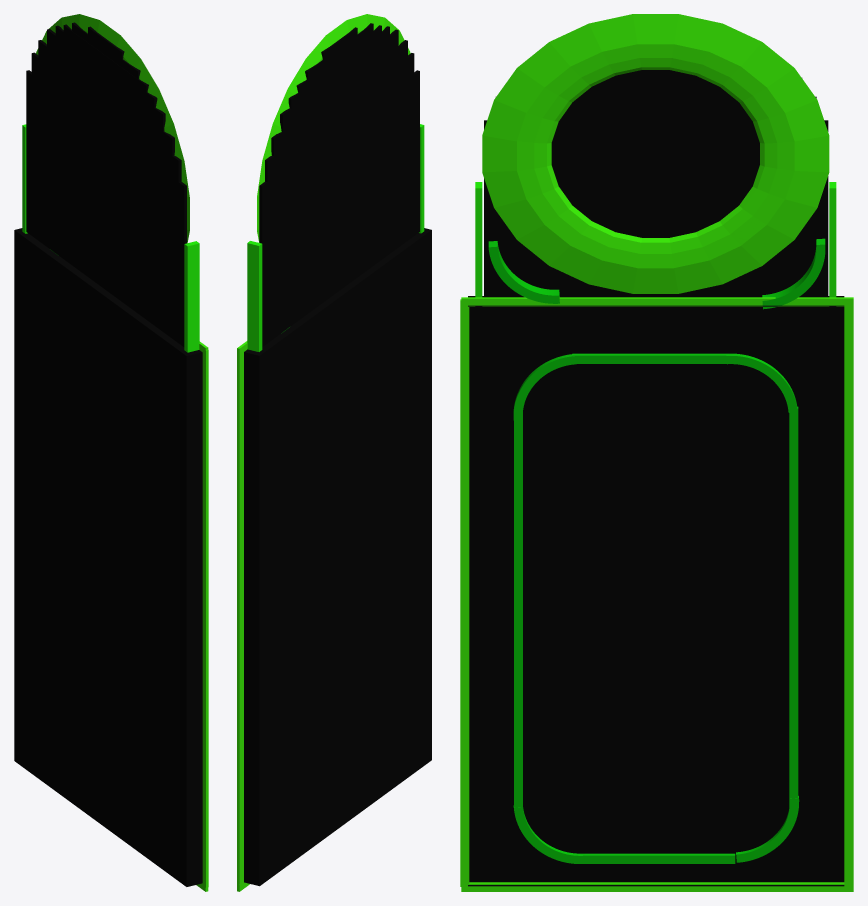
File: Park Station Sign.fbx
The picture shows the model from 3 angles, left to right: view 1: azimuth 30°, elevation 25°; view 2: azimuth 150°, elevation 25°; view 3: azimuth 270°, elevation 25°; orthographic projection. The views are drawn at different scales.
Parts seen in each view (by area): view 1: Board (×2), Frame; view 2: Board (×2), Frame; view 3: Frame (×2), Board (×3), Curve.004, Curve.005, Curve.006, Curve.002, Curve, Curve.003.
Boxes of the visible parts, x1=… form: Board (×2): x1=14, y1=14, x2=208, y2=891; Frame: x1=22, y1=124, x2=199, y2=352; Board (×2): x1=237, y1=14, x2=431, y2=891; Frame: x1=247, y1=124, x2=424, y2=351; Frame (×2): x1=469, y1=182, x2=844, y2=882; Board (×3): x1=460, y1=14, x2=853, y2=891; Curve.004: x1=488, y1=241, x2=559, y2=303; Curve.005: x1=762, y1=238, x2=825, y2=309; Curve.006: x1=726, y1=353, x2=797, y2=412; Curve.002: x1=513, y1=805, x2=585, y2=863; Curve: x1=513, y1=354, x2=576, y2=420; Curve.003: x1=736, y1=796, x2=799, y2=862.
Bounding box in the file's own units: 26.65 × 994 × 406.
